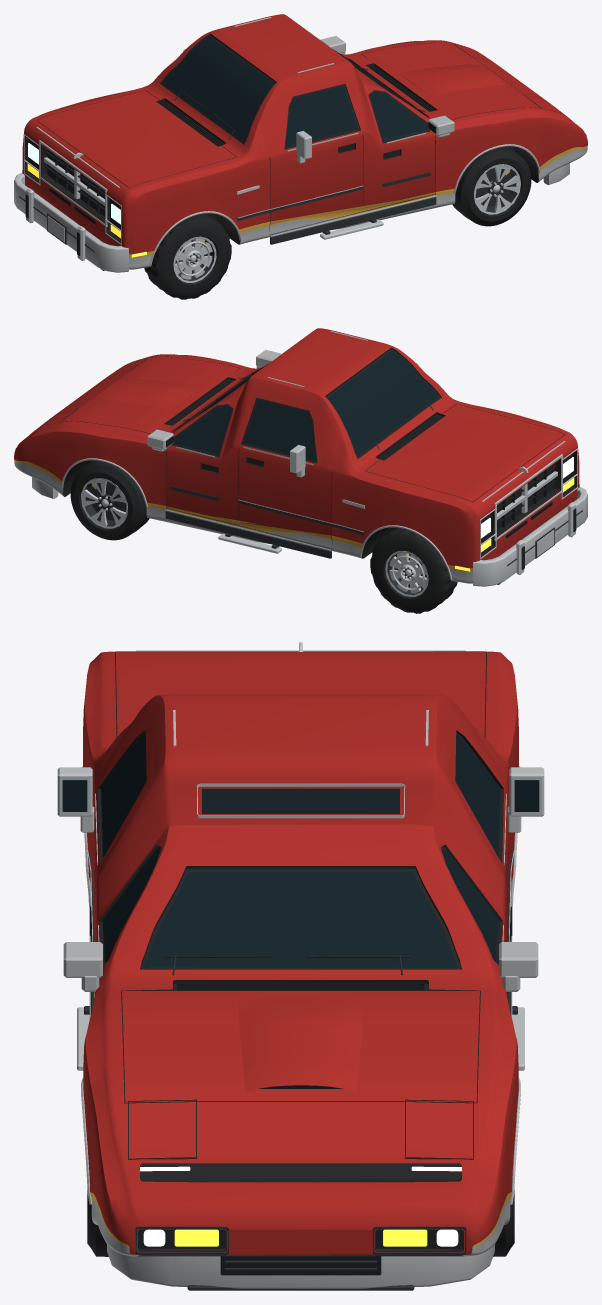
File: ramjet_blueprint_LOD1.glb
The picture shows the model from 3 angles, top to bottom: view 1: azimuth 30°, elevation 25°; view 2: azimuth 150°, elevation 25°; view 3: azimuth 270°, elevation 25°; orthographic projection. The views are drawn at different scales.
Parts seen in each view (by area): view 1: Body_RamjetShell.001, Detail_BrushedMetal, Glass_TruckWindshield.001, Wheel_Truck_Tire_-1.001, Glass_TruckSide_R.001, Wheel_Coupe_Tire_-1.001, Detail_Gunmetal, Detail_Paint, Detail_Grille, Detail_Secondary, Glass_CoupeSide_R.001, Wheel_Coupe_Hub_-1.001 (+4 smaller); view 2: Body_RamjetShell.001, Detail_BrushedMetal, Glass_TruckWindshield.001, Wheel_Truck_Tire_+1.001, Glass_TruckSide_L.001, Wheel_Coupe_Tire_+1.001, Detail_Gunmetal, Detail_Paint, Detail_Grille, Detail_Secondary, Glass_CoupeSide_L.001, Wheel_Coupe_Hub_+1.001 (+4 smaller); view 3: Body_RamjetShell.001, Glass_CoupeWindshield.001, Detail_Secondary, Detail_Paint, Detail_BrushedMetal, Glass_CabRear.001, Detail_Grille, Detail_Gunmetal, Glass_TruckSide_L.001, Glass_TruckSide_R.001, Glass_CoupeSide_R.001, Glass_CoupeSide_L.001 (+3 smaller).
Part boxes in pixels (x1,y1,x2,y2): Body_RamjetShell.001: (22,14,587,269); Detail_BrushedMetal: (14,17,436,272); Glass_TruckWindshield.001: (163,36,274,142); Wheel_Truck_Tire_-1.001: (144,213,231,299); Glass_TruckSide_R.001: (286,85,357,146); Wheel_Coupe_Tire_-1.001: (452,146,531,226); Detail_Gunmetal: (19,67,586,270); Detail_Paint: (399,64,505,95); Detail_Grille: (45,65,435,224); Detail_Secondary: (149,36,569,265); Glass_CoupeSide_R.001: (370,92,427,140); Wheel_Coupe_Hub_-1.001: (475,168,511,206); Body_RamjetShell.001: (14,328,579,583); Detail_BrushedMetal: (165,331,587,586); Glass_TruckWindshield.001: (327,350,438,456); Wheel_Truck_Tire_+1.001: (370,527,457,613); Glass_TruckSide_L.001: (244,399,315,460); Wheel_Coupe_Tire_+1.001: (70,460,149,540); Detail_Gunmetal: (15,376,582,584); Detail_Paint: (96,378,202,409); Detail_Grille: (166,379,556,538); Detail_Secondary: (32,350,452,579); Glass_CoupeSide_L.001: (174,406,231,454); Wheel_Coupe_Hub_+1.001: (90,481,126,520); Body_RamjetShell.001: (83,651,518,1256); Glass_CoupeWindshield.001: (144,872,457,967); Detail_Secondary: (63,766,538,1288); Detail_Paint: (237,997,363,1091); Detail_BrushedMetal: (57,642,544,1070); Glass_CabRear.001: (202,788,399,813); Detail_Grille: (177,983,424,1275); Detail_Gunmetal: (84,851,517,1290); Glass_TruckSide_L.001: (455,734,499,856); Glass_TruckSide_R.001: (102,734,146,856); Glass_CoupeSide_R.001: (103,849,160,962); Glass_CoupeSide_L.001: (441,849,498,962).
Bounding box in the file's own units: 5.52 × 1.96 × 2.36.
